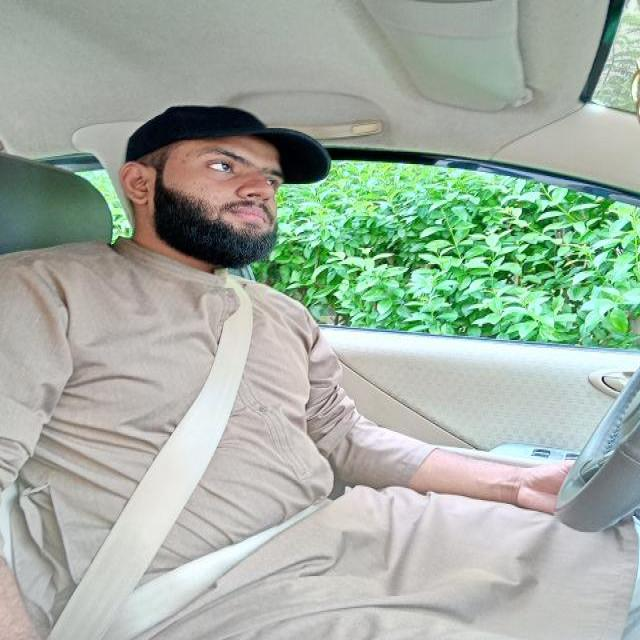seatbelt: (54, 206, 335, 640)
